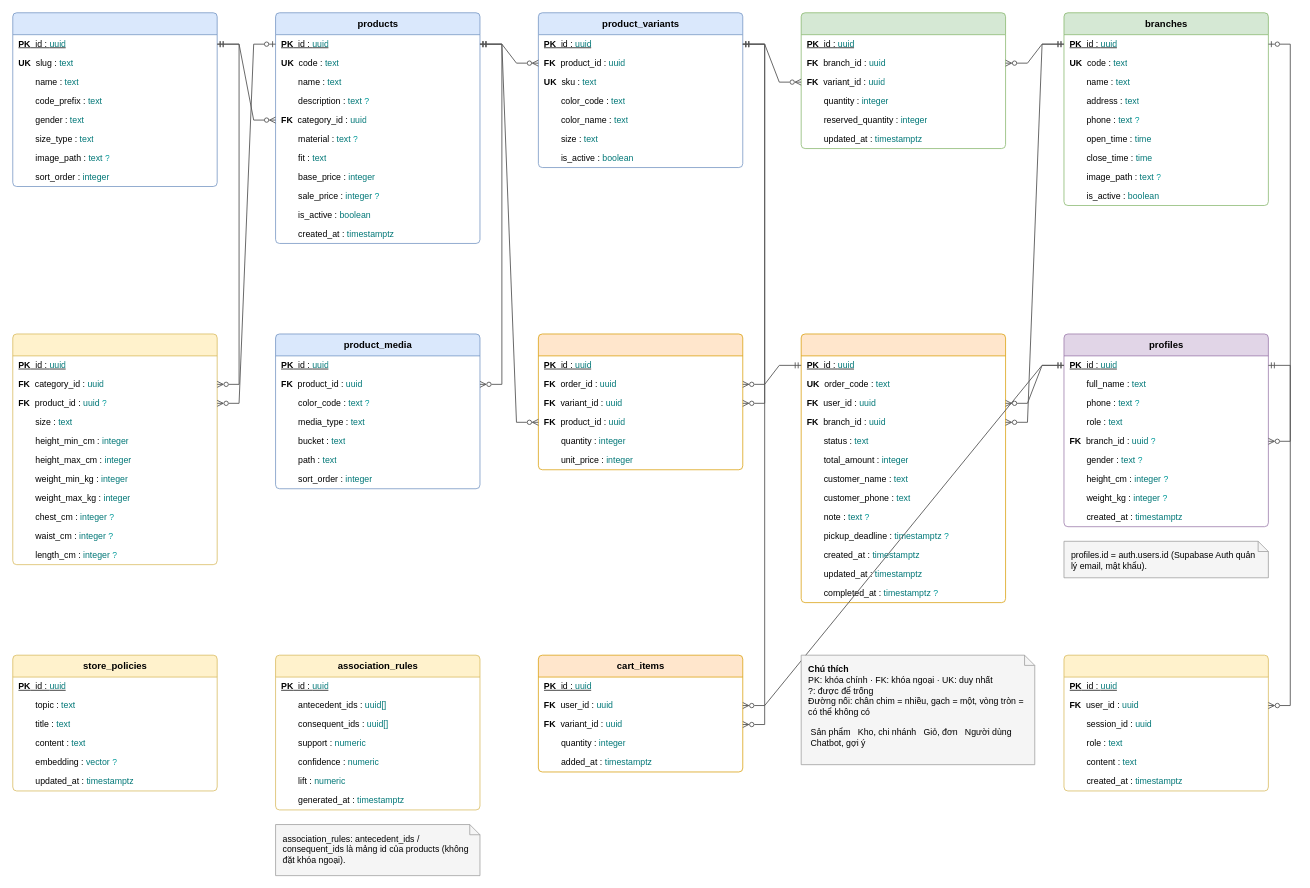
The diagram is 1310 pixels wide and 888 high, and some of its shapes have lost their labels. The box of each missing label's shape, as (x1, y1, x2, y2) in pixels:
categories: (12, 12, 217, 187)
chat_messages: (1063, 654, 1268, 791)
inventory: (800, 12, 1006, 149)
order_items: (538, 333, 743, 470)
orders: (800, 333, 1006, 603)
size_charts: (12, 333, 217, 565)
